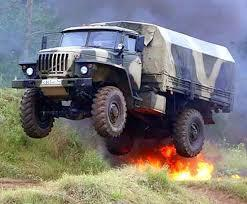truck: (17, 15, 239, 162)
